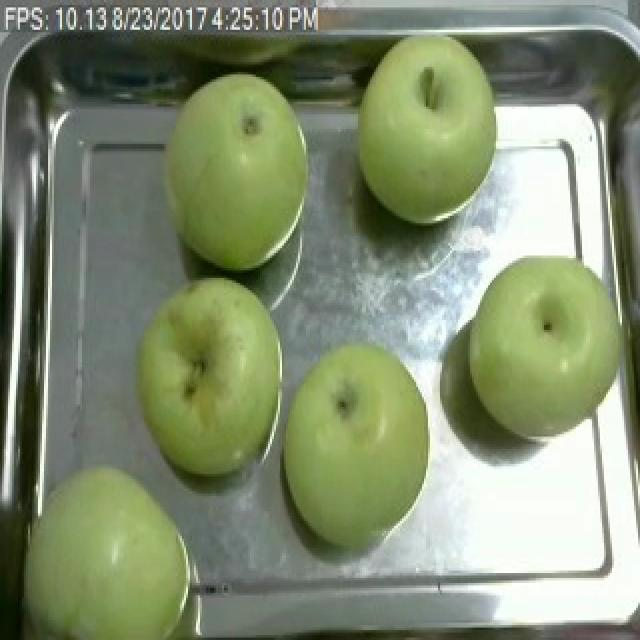50-_ripeness: (128, 259, 283, 488), (339, 35, 518, 228), (17, 462, 202, 638), (162, 70, 320, 272), (285, 344, 433, 552), (470, 252, 625, 444)
